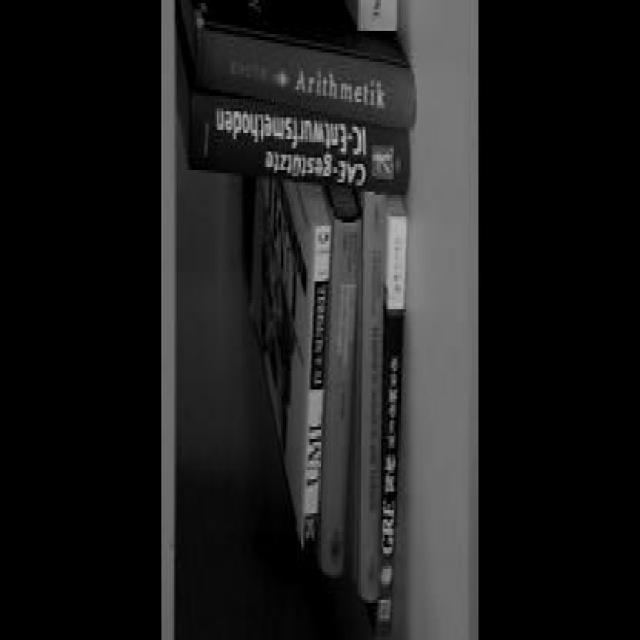book: (194, 0, 440, 133), (249, 184, 329, 579), (178, 100, 419, 165), (381, 211, 410, 625), (332, 181, 355, 578), (360, 182, 379, 597)
